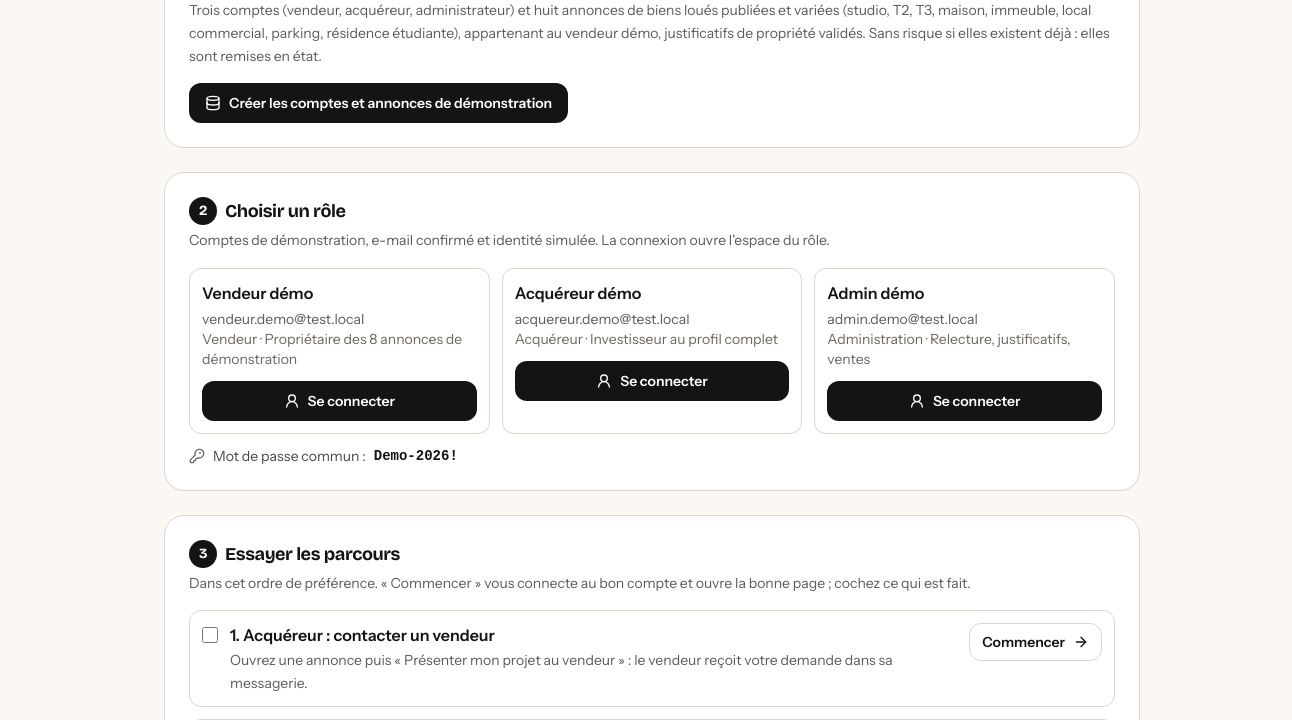
TestModePage › connexion rapide : POST /test/login-as, jeton et compte stockés comme une connexion, espace du rôle
(page scrolled)
Step 1. Click the button with test id "test-login-vendeur" → (339, 401), box x1=202 y1=381 x2=477 y2=421
(page scrolled)
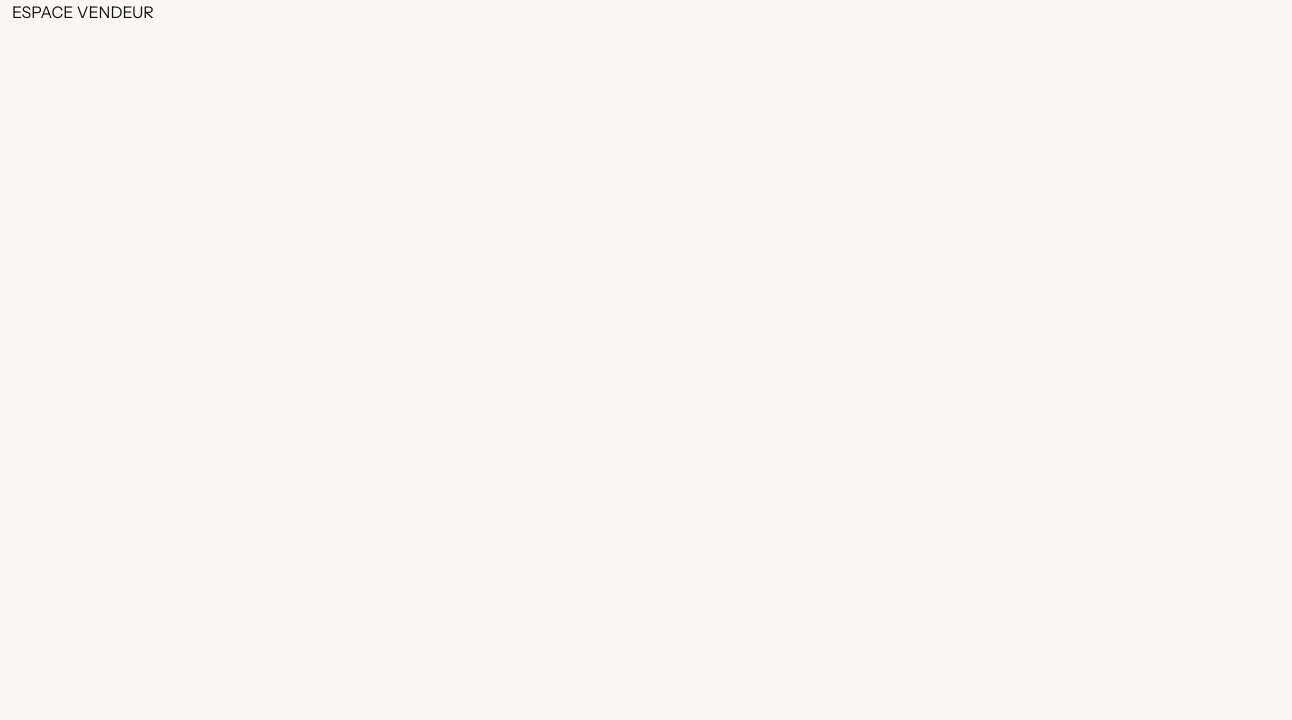
Expected: the text "ESPACE VENDEUR" is shown, x1=12 y1=2 x2=154 y2=22
